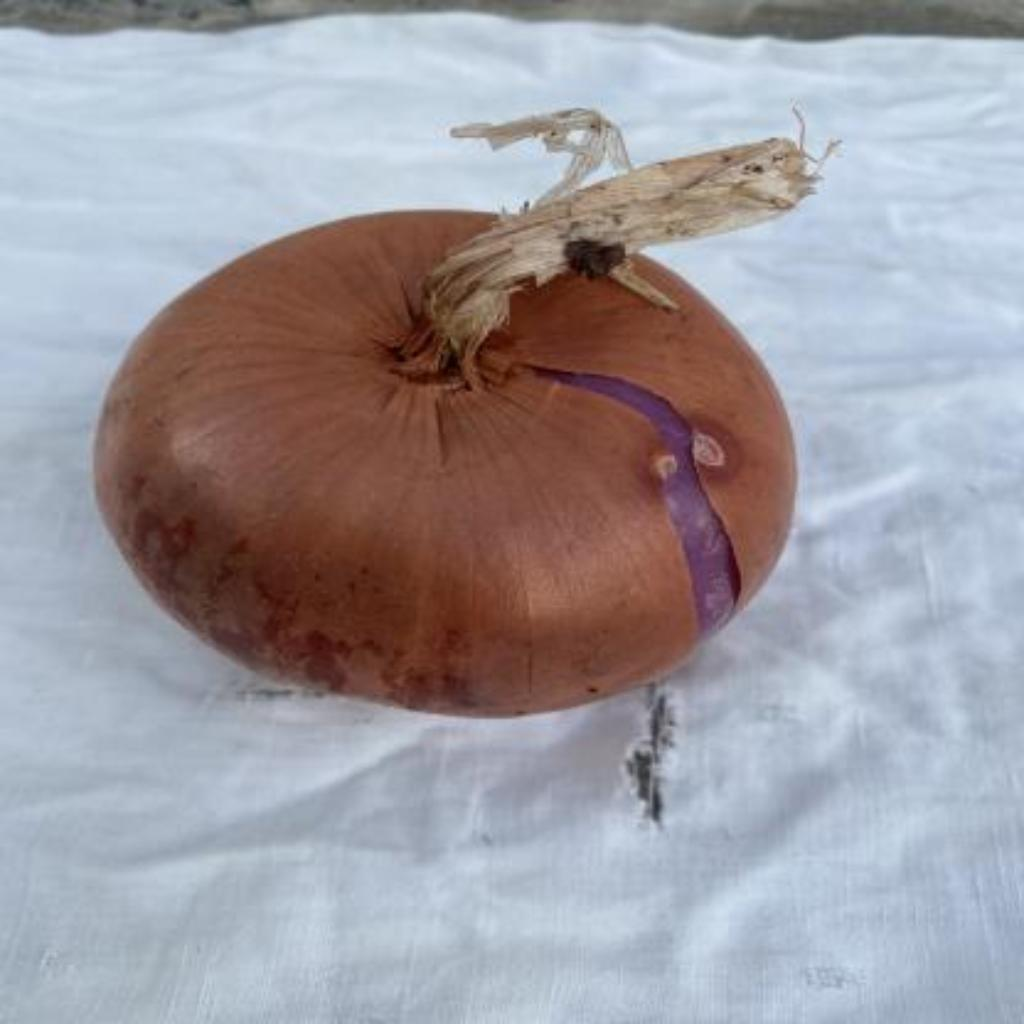Onion: (94, 108, 822, 716)
